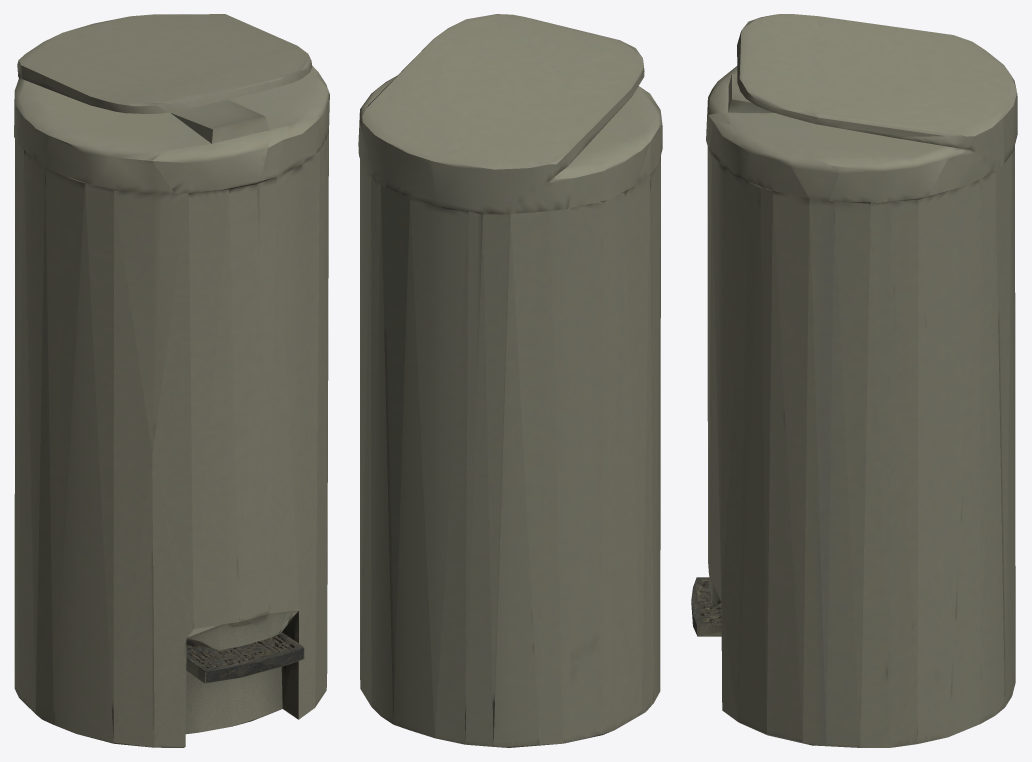
File: cestino_A.glb
The picture shows the model from 3 angles, left to right: view 1: azimuth 30°, elevation 25°; view 2: azimuth 150°, elevation 25°; view 3: azimuth 270°, elevation 25°; orthographic projection. The views are drawn at different scales.
Bounding box in the file's own units: 0.8497 × 1.9 × 0.8944.
Materials: 1 (1 with a texture image).
